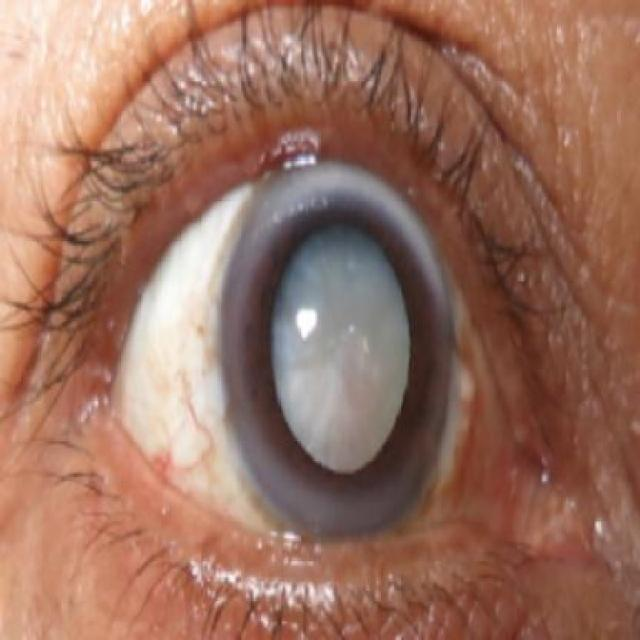Cataract: (217, 167, 448, 541)
